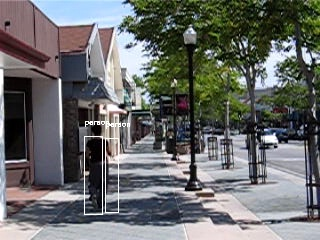person: (85, 119, 112, 205), (84, 119, 111, 205), (86, 119, 113, 205), (85, 118, 112, 204), (85, 120, 112, 206)
target_negative: (36, 196, 266, 218), (214, 163, 229, 212), (258, 128, 268, 179), (249, 41, 254, 85), (249, 229, 280, 232), (206, 167, 214, 170)
